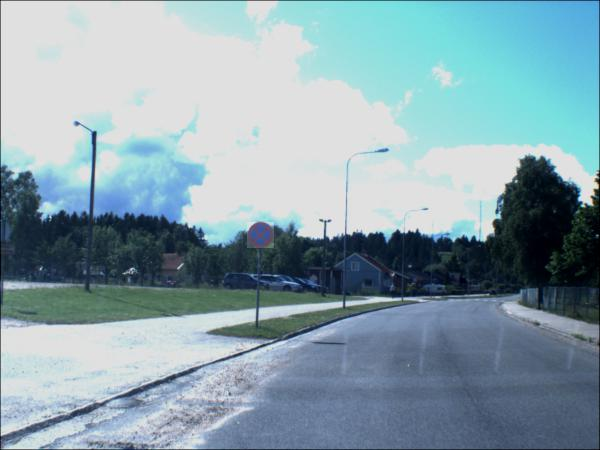NO_PARKING: (460, 280, 467, 286), (413, 279, 418, 284)
NO_STOPPING_NO_STANDING: (247, 223, 275, 250)
PEDESTRIAN_CROSSING: (432, 277, 438, 283)
